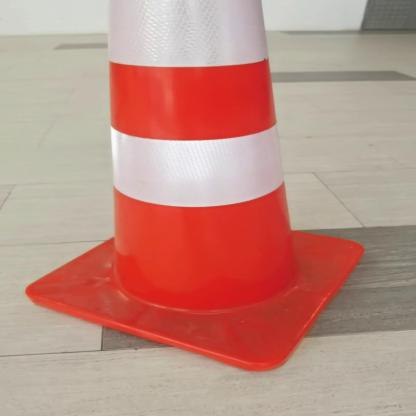cone: (26, 2, 368, 376)
